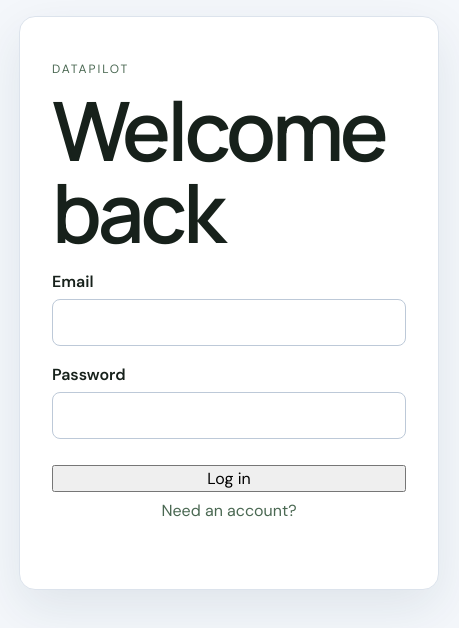
Scenario: authentication UI › switches to registration
What coordinates should you click on to do the following:
click the button "Need an account?"
I would click on:
 (229, 510)
Its box is [52,500,406,521].
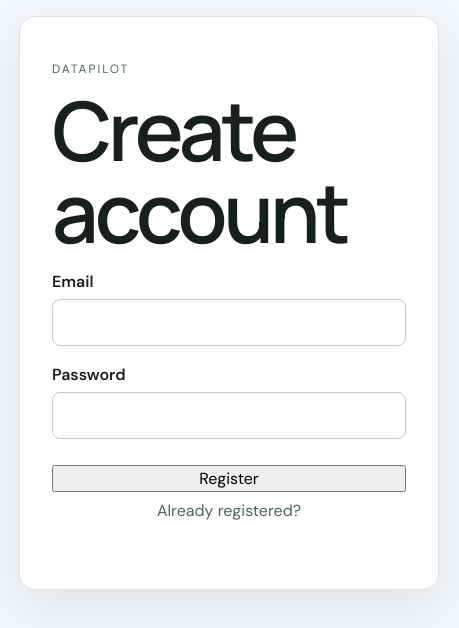
Now the heading "Create account" is shown, box [52,74,347,268]
